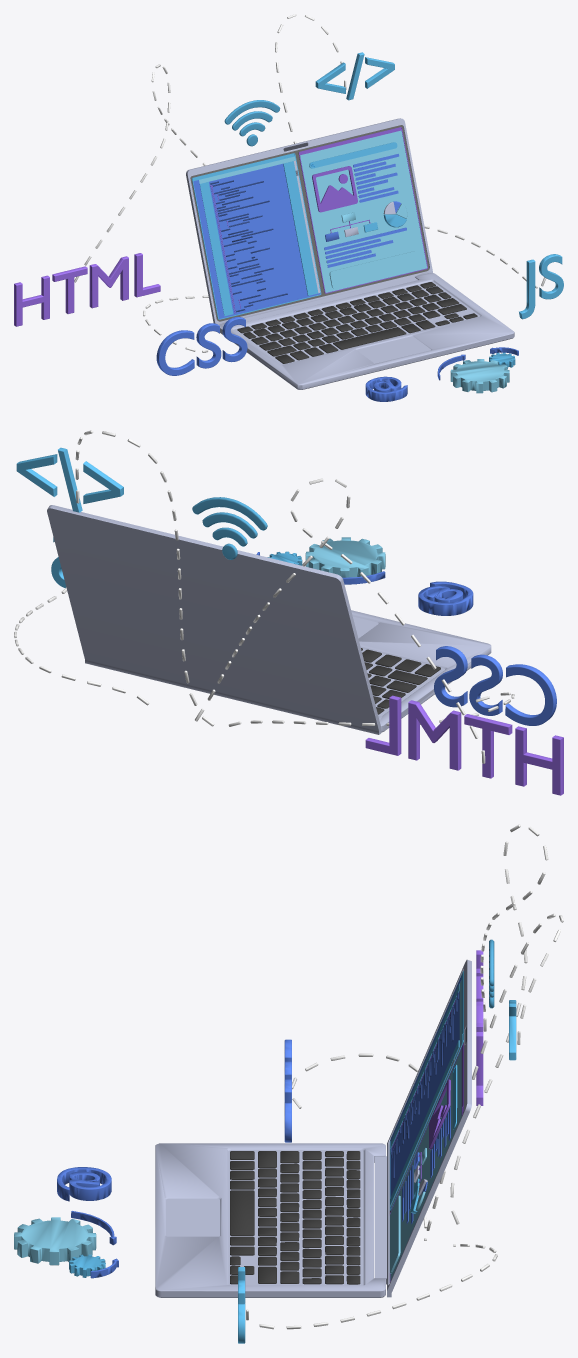
The model's file is 3d_clipart_-_webdev-optimized.glb.
3 views of the same model, one above another, from view 1: azimuth 30°, elevation 25°; view 2: azimuth 150°, elevation 25°; view 3: azimuth 270°, elevation 25° (orthographic). The views are drawn at different scales.
Visible parts, largest first — view 1: JS_text.001_0; view 2: JS_text.001_0; view 3: JS_text.001_0.
Boxes of the visible parts, left/top/right/bottom form: JS_text.001_0: left=14, top=14, right=563, bottom=401; JS_text.001_0: left=14, top=430, right=563, bottom=795; JS_text.001_0: left=14, top=824, right=563, bottom=1343.
Bounding box in the file's own units: 10.39 × 5.31 × 7.69.
1 material, 1 textured.
